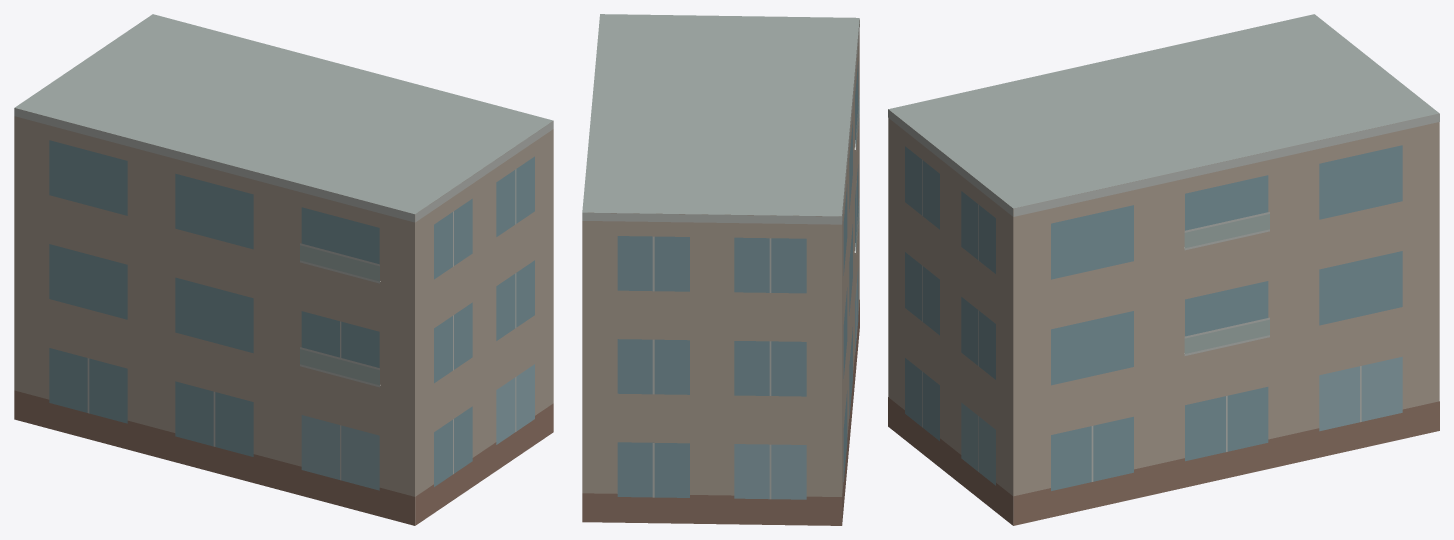
Rendered from survey-upis-32704066.glb.
The picture shows the model from 3 angles, left to right: view 1: azimuth 30°, elevation 25°; view 2: azimuth 150°, elevation 25°; view 3: azimuth 270°, elevation 25°; orthographic projection. The views are drawn at different scales.
Parts seen in each view (by area): view 1: survey-upis-32704066.tmp; view 2: survey-upis-32704066.tmp; view 3: survey-upis-32704066.tmp.
Boxes of the visible parts, <box> form: survey-upis-32704066.tmp: <box>14,14,553,525</box>; survey-upis-32704066.tmp: <box>582,14,859,525</box>; survey-upis-32704066.tmp: <box>888,14,1439,525</box>.
Size of the model in its own units: 12.04 by 9.15 by 14.42.
